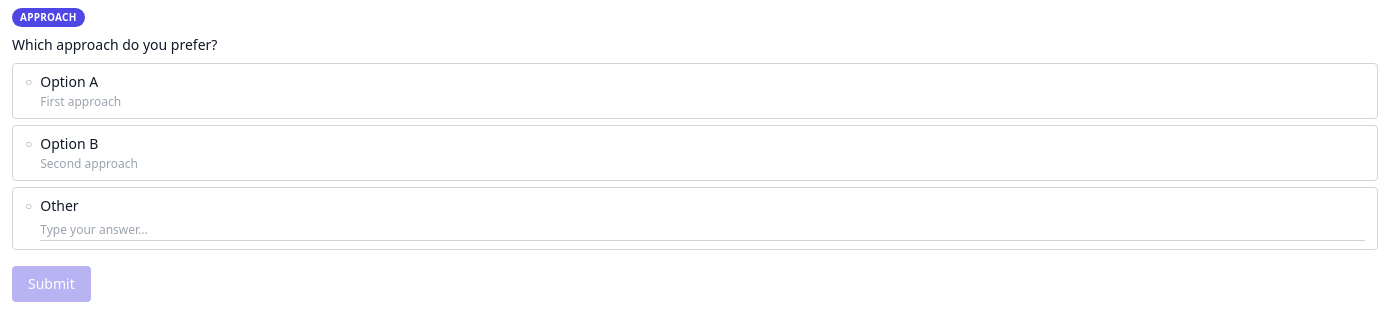
StructuredQuestion › Single-select behavior › clicking option selects it and enables submit
Click the text "Option A": click(69, 82) [40,72,98,91]
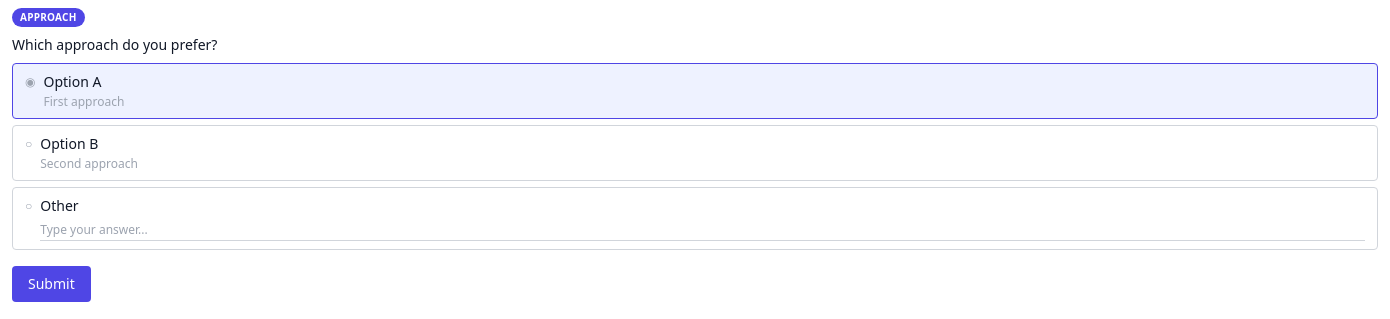
Expected: the button "Submit" is enabled, [12,266,91,302]
